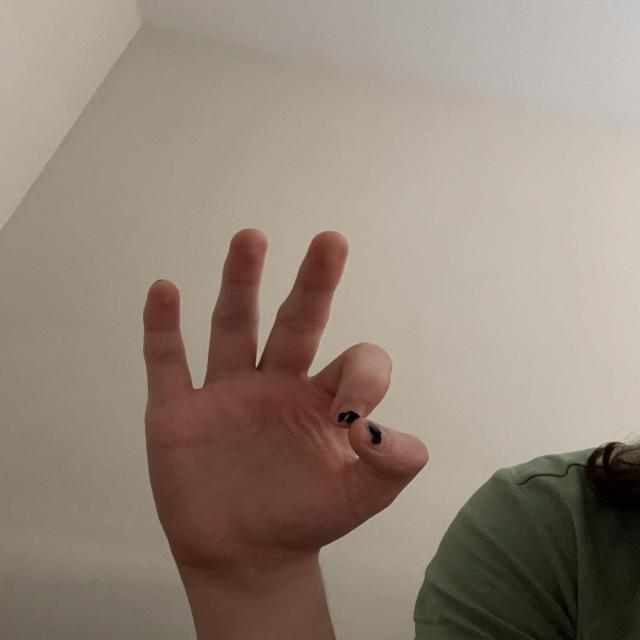F: (135, 224, 431, 577)
